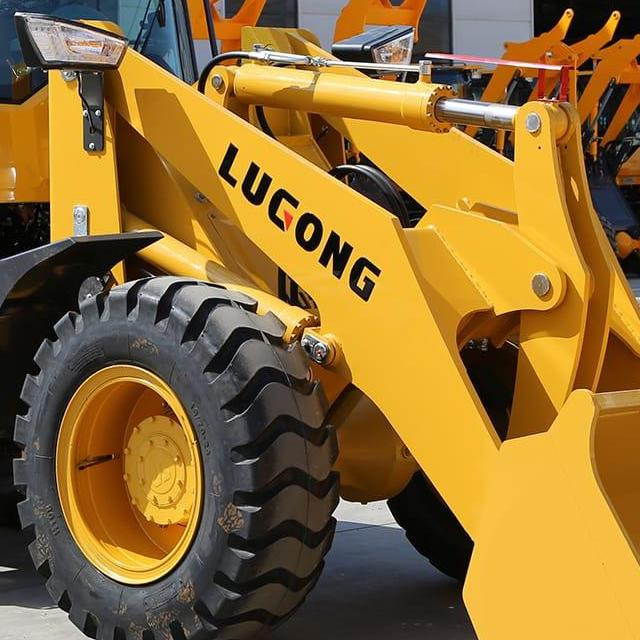wheel loader: (0, 0, 640, 640), (473, 7, 640, 271), (448, 8, 620, 154), (573, 0, 640, 266)
